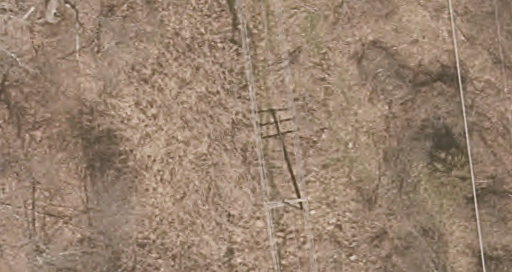DT: (260, 196, 311, 217)
